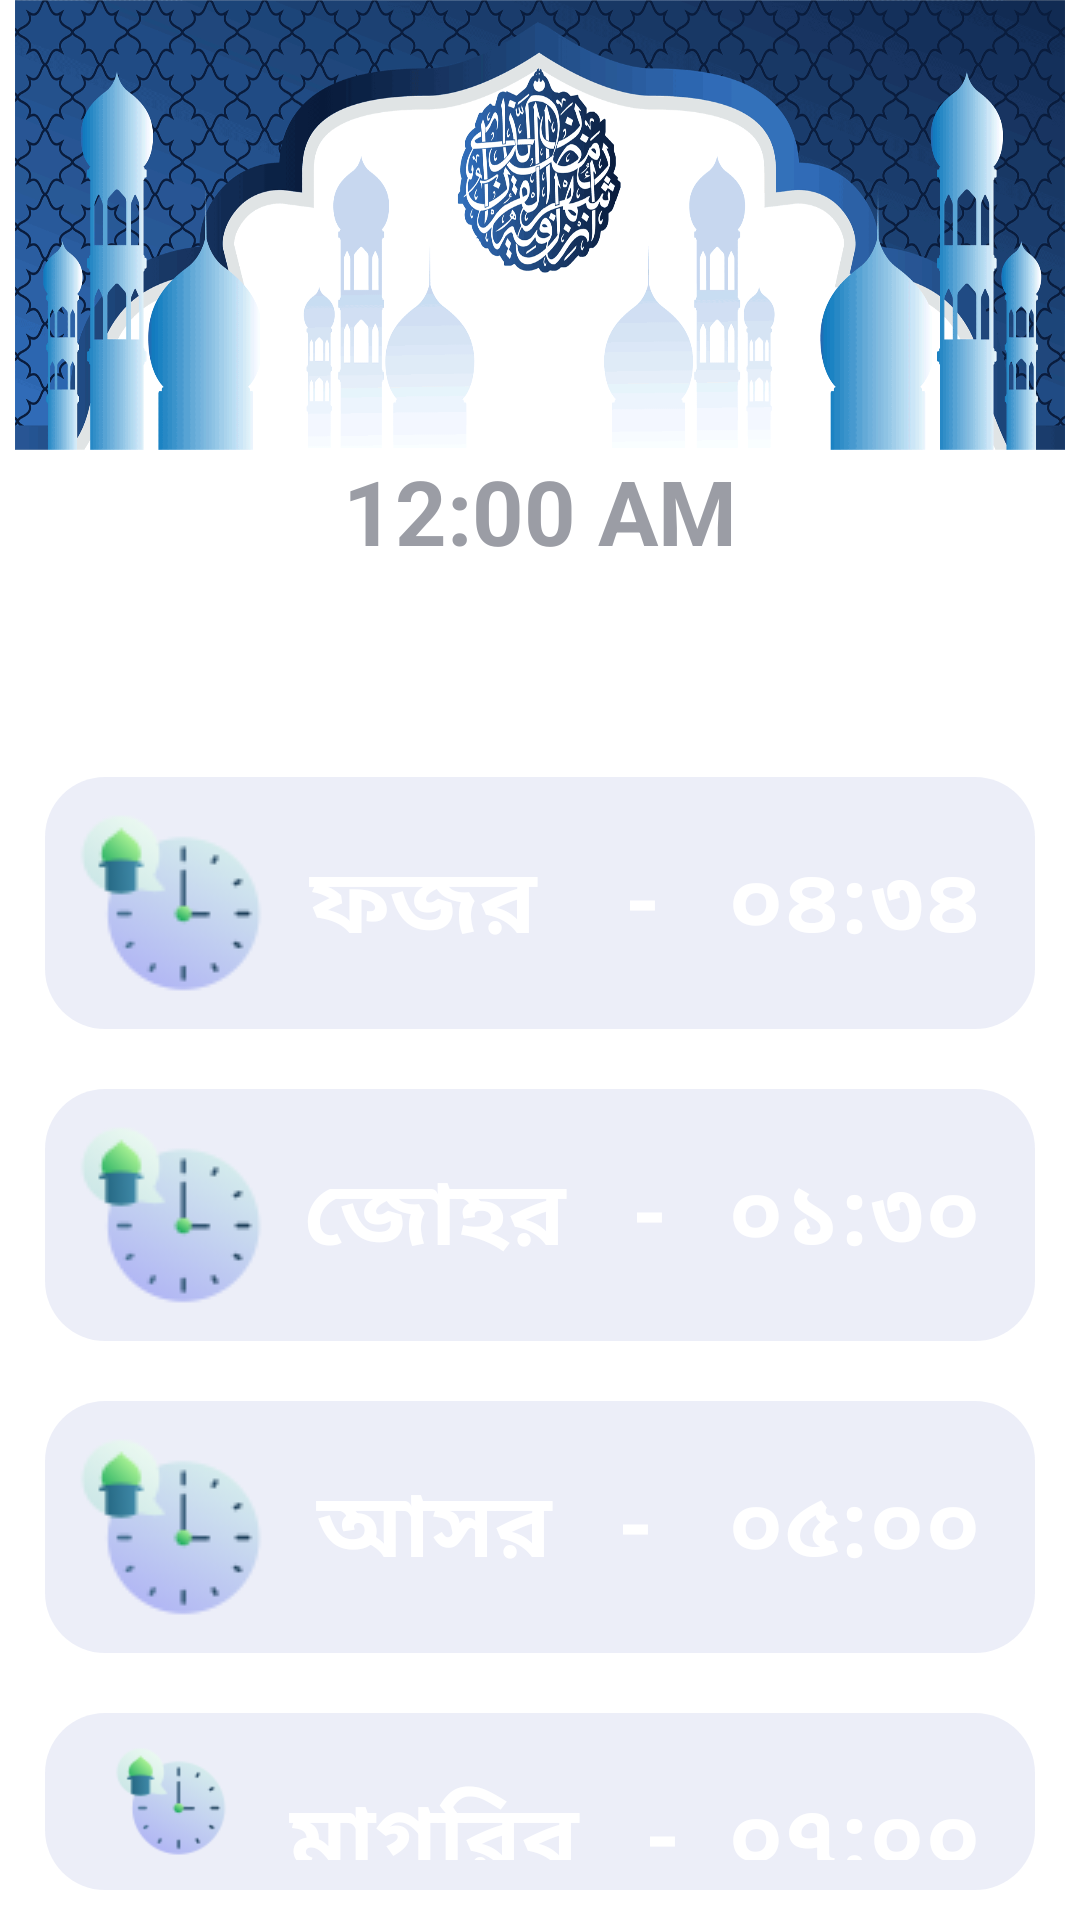

Screen size 1080 x 1920. Icon name, then its box in pixels as [x1, y1, x2, y2]:
time: [85, 827, 258, 990], [85, 1139, 258, 1302], [85, 1451, 258, 1614], [119, 1755, 224, 1854]
